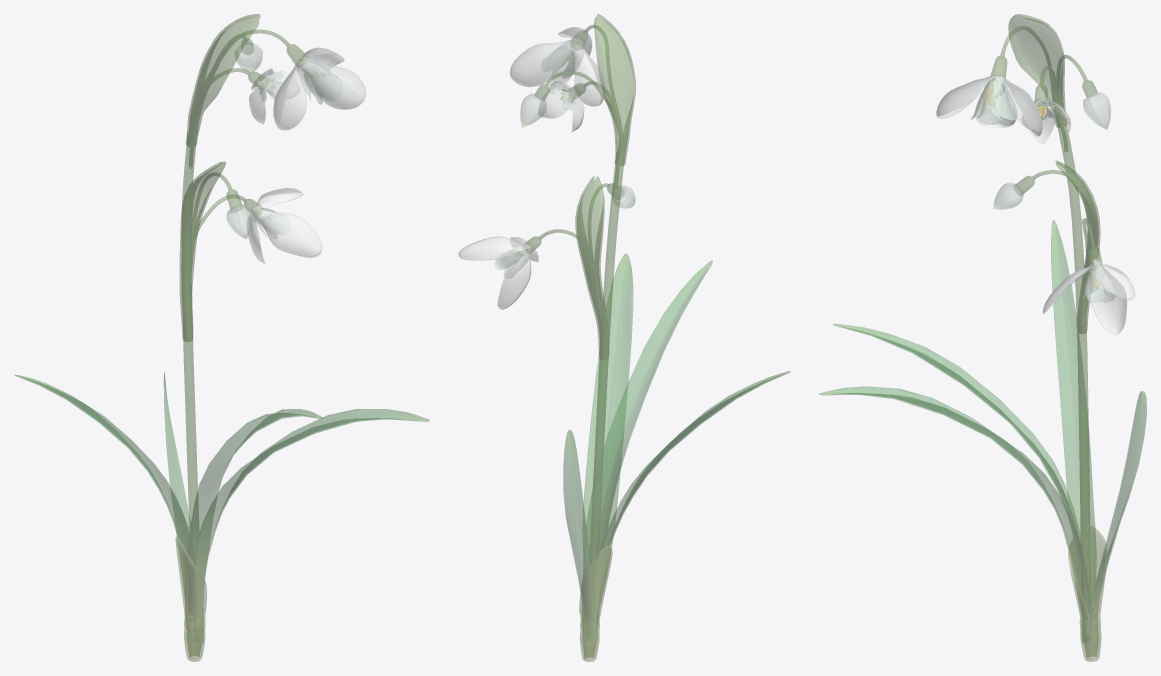
3 renders of one model, left to right at view 1: azimuth 30°, elevation 25°; view 2: azimuth 150°, elevation 25°; view 3: azimuth 270°, elevation 25°, orthographic. The views are drawn at different scales.
Visible parts, largest first — view 1: 12970_snowdrop_flower_v1_l2; view 2: 12970_snowdrop_flower_v1_l2; view 3: 12970_snowdrop_flower_v1_l2.
Boxes of the visible parts, x1=… form: 12970_snowdrop_flower_v1_l2: x1=14, y1=14, x2=429, y2=661; 12970_snowdrop_flower_v1_l2: x1=458, y1=14, x2=790, y2=661; 12970_snowdrop_flower_v1_l2: x1=819, y1=14, x2=1146, y2=661.
Bounding box in the file's own units: 4.28 × 8.42 × 3.8.
5 materials, 4 textured.
